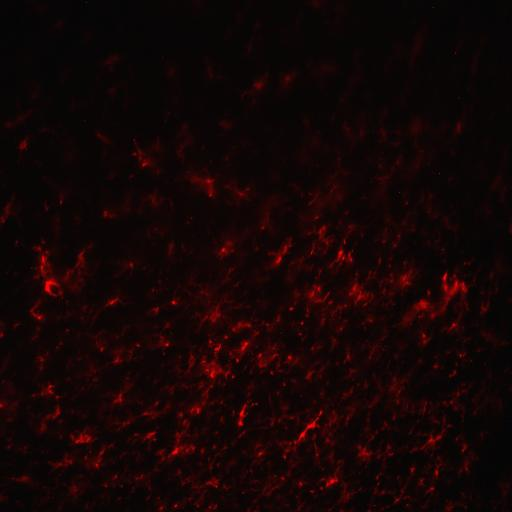microglia: (396, 267, 476, 338), (178, 338, 233, 418), (184, 267, 240, 333), (388, 16, 442, 80), (10, 122, 64, 182), (34, 241, 90, 298), (302, 160, 347, 230), (278, 406, 324, 461), (338, 269, 388, 319), (156, 418, 202, 468), (322, 458, 360, 504), (287, 280, 332, 318), (172, 475, 218, 512), (248, 333, 289, 374), (380, 262, 419, 304), (327, 222, 357, 276), (356, 419, 392, 464), (99, 375, 136, 416), (321, 404, 356, 446), (35, 382, 63, 433), (368, 159, 403, 198), (374, 213, 409, 252), (419, 457, 444, 509), (212, 227, 245, 265), (230, 318, 259, 361), (301, 223, 335, 258), (132, 139, 164, 176), (340, 346, 360, 402), (265, 235, 294, 272), (236, 382, 258, 429), (186, 170, 218, 202), (440, 386, 472, 418), (138, 189, 174, 217), (317, 304, 348, 336), (432, 350, 468, 377), (83, 442, 115, 472), (0, 380, 21, 424), (456, 437, 478, 479), (391, 465, 414, 505), (262, 469, 294, 497), (387, 371, 411, 407), (364, 330, 388, 366), (138, 397, 171, 423), (259, 196, 282, 233), (110, 343, 141, 369), (243, 74, 269, 104), (304, 357, 330, 385), (102, 197, 131, 222), (76, 363, 106, 387), (3, 109, 34, 132), (224, 178, 251, 204), (248, 438, 273, 466), (176, 123, 193, 163), (131, 427, 159, 451), (69, 424, 99, 446), (421, 426, 446, 452), (84, 328, 108, 355), (110, 410, 138, 433), (163, 239, 191, 261), (342, 123, 367, 146), (115, 258, 142, 278), (408, 147, 427, 175), (48, 454, 75, 473), (147, 334, 172, 354), (27, 298, 47, 322), (418, 190, 436, 216), (169, 284, 185, 312), (379, 129, 401, 147), (34, 350, 49, 376), (105, 294, 129, 310), (0, 202, 14, 228), (409, 116, 423, 139), (101, 52, 121, 68), (66, 482, 82, 500), (282, 72, 297, 90), (284, 352, 302, 367), (10, 472, 31, 484), (147, 303, 166, 316), (219, 117, 235, 130), (40, 384, 57, 396), (454, 116, 464, 136), (18, 136, 30, 152), (480, 300, 494, 312), (96, 133, 110, 144), (0, 318, 6, 342), (327, 338, 338, 351)
